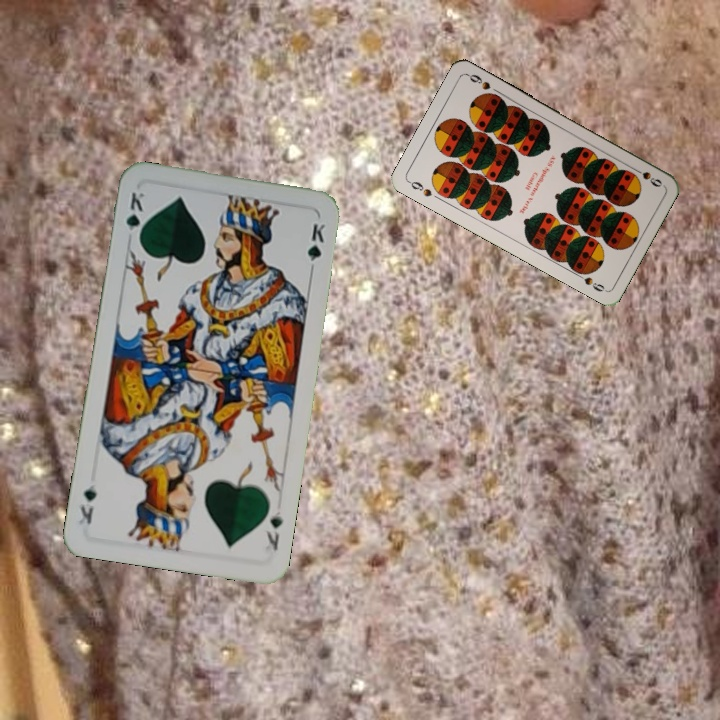GK: (122, 188, 149, 245), (261, 507, 285, 554)
S9: (628, 163, 665, 190), (404, 177, 434, 199)
